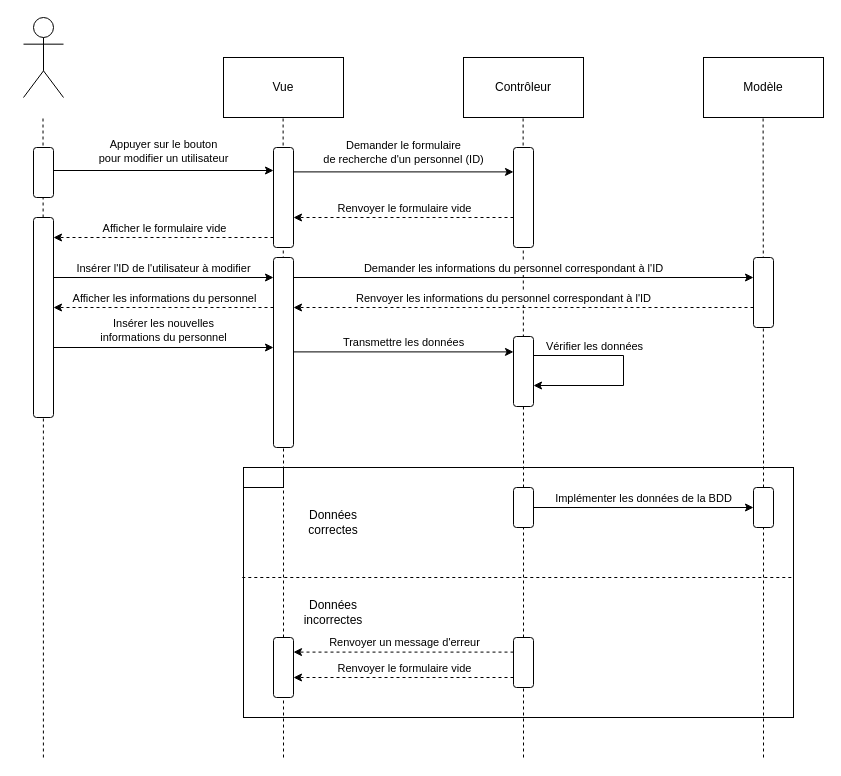
This 841x776 diagram has some shape labels left out. The shapes that lost their labels are listed below. From the top down, each one's centre as x and y in pixels, then its label:
At pixel 43 57: "Utilisateur".
At pixel 263 477: "alt".
